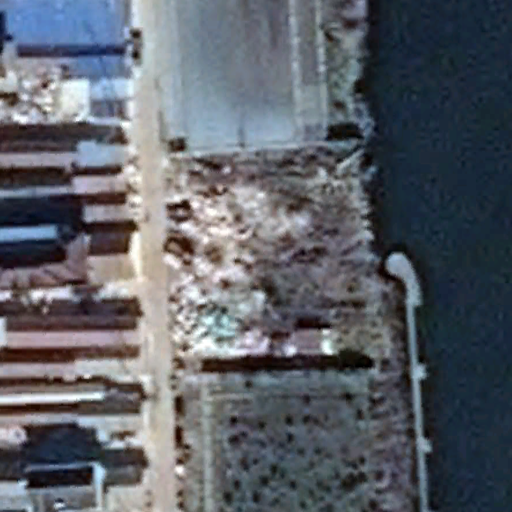msw: (166, 156, 306, 361)
